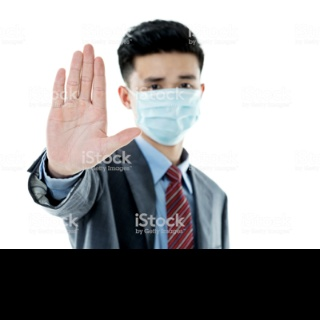with_mask: (130, 70, 200, 148)
